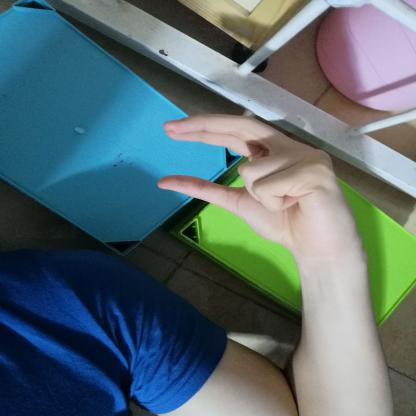DHELL: (142, 104, 368, 261)
